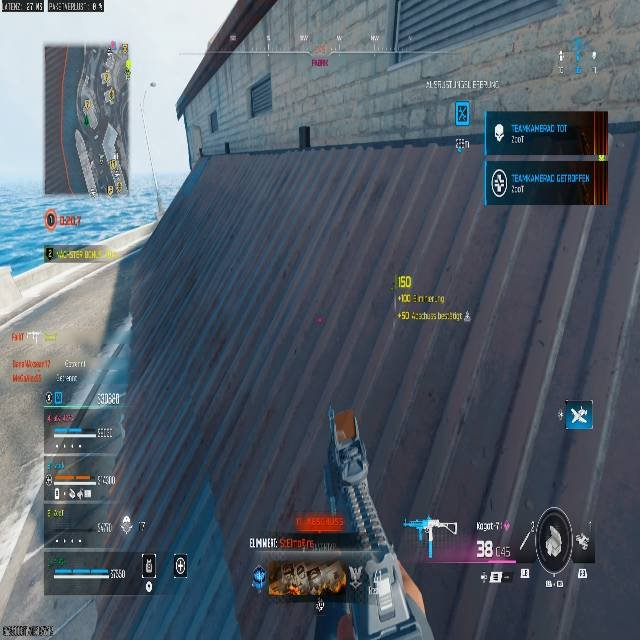player: (260, 415, 389, 610)
